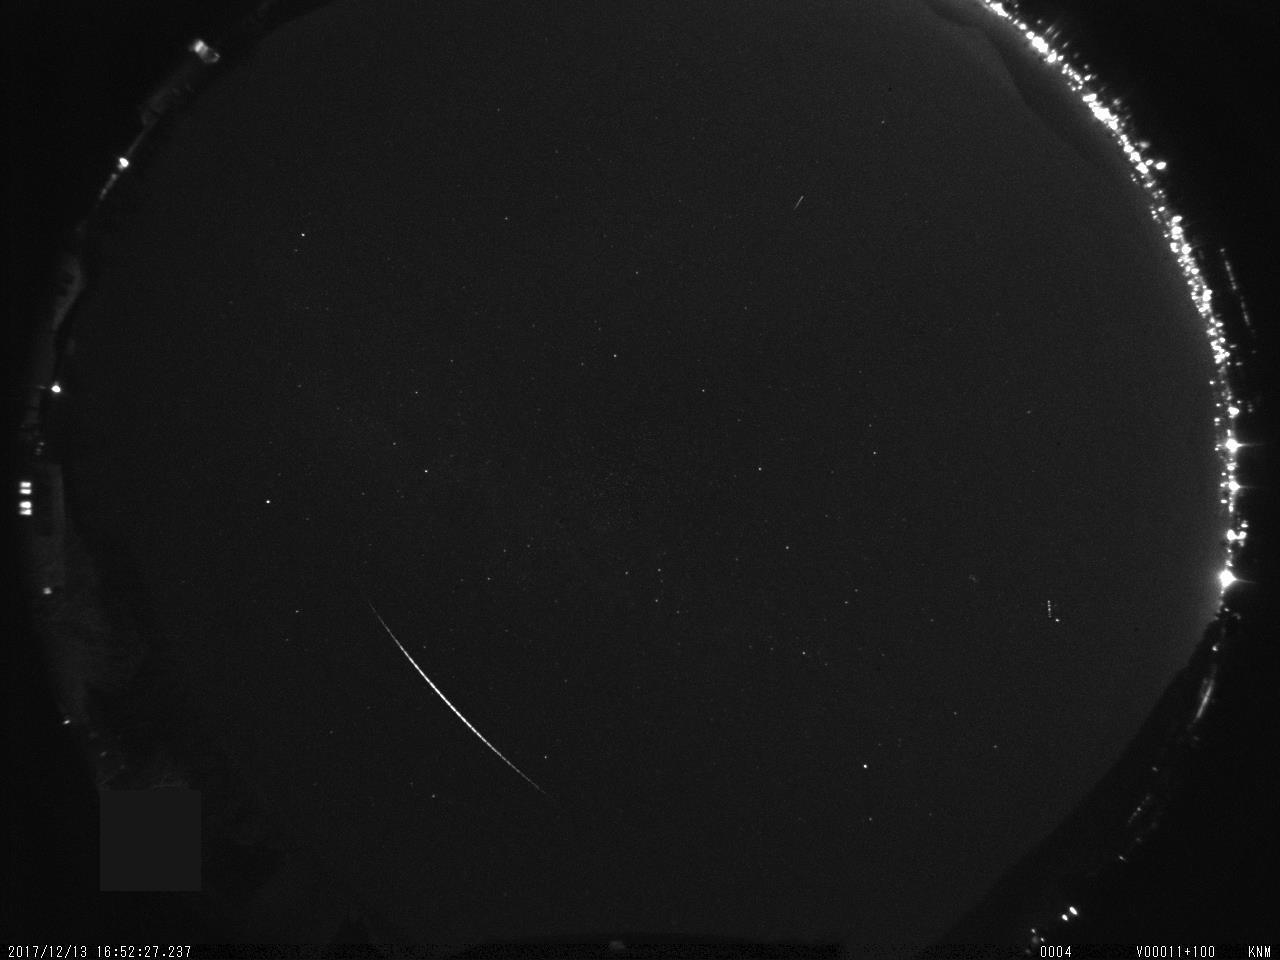Meteor: (360, 585, 550, 805), (786, 185, 810, 222), (1043, 596, 1055, 624)
